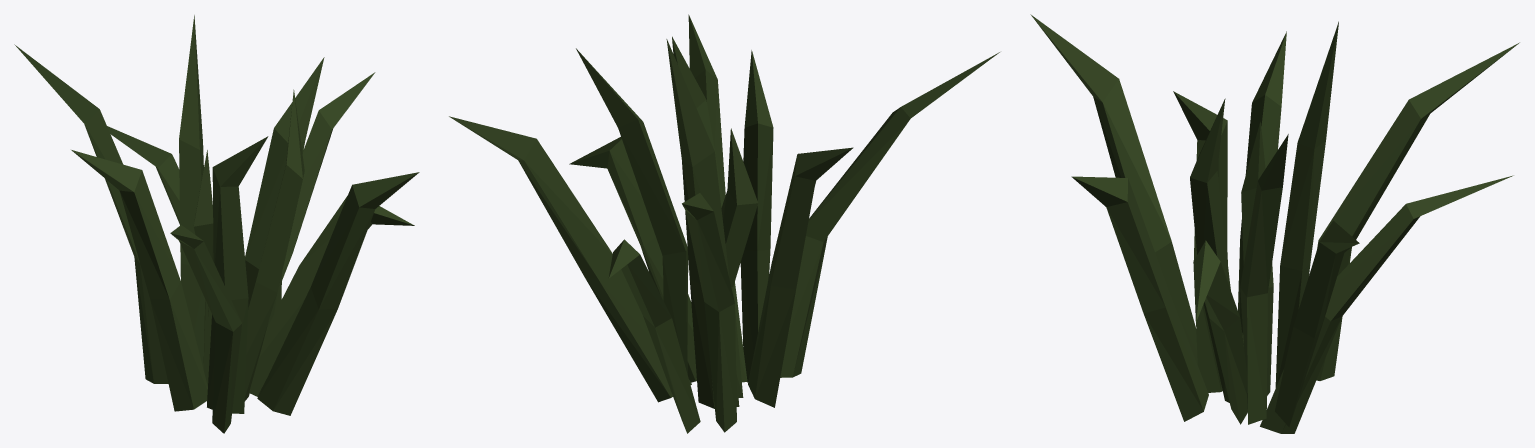
File: grass_group_00.FBX
3 views of the same model, side by side, from view 1: azimuth 30°, elevation 25°; view 2: azimuth 150°, elevation 25°; view 3: azimuth 270°, elevation 25° (orthographic). The views are drawn at different scales.
Parts seen in each view (by area): view 1: grass_00; view 2: grass_00; view 3: grass_00.
Part boxes in pixels (x1,y1,x2,y2): grass_00: (14,15,419,433); grass_00: (449,14,999,433); grass_00: (1030,14,1519,433).
Size of the model in its own units: 53.22 by 53.96 by 58.12.
